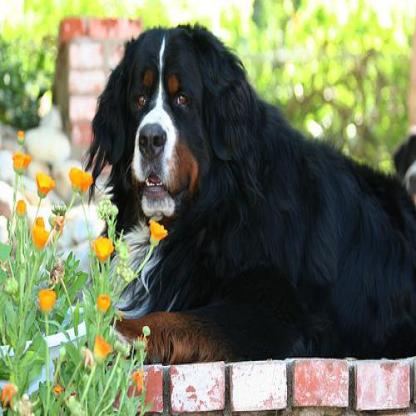Bernese_mountain_dog: (80, 18, 413, 358)
